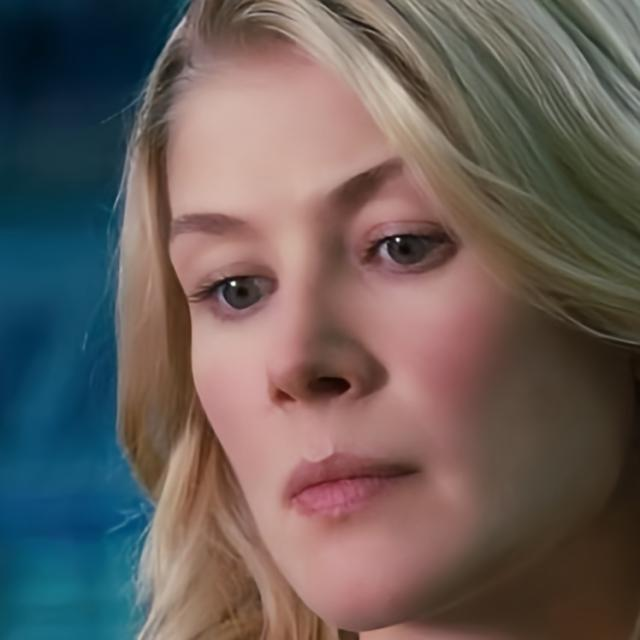neutral: (165, 4, 640, 632)
